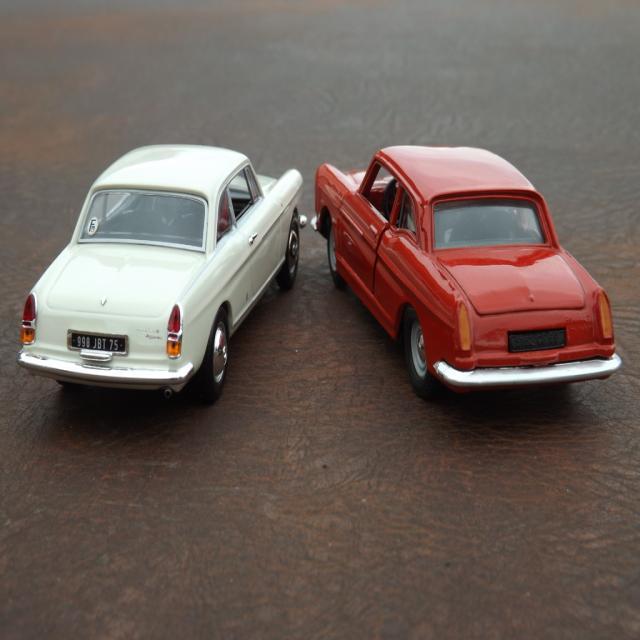car: (309, 145, 622, 403), (17, 145, 309, 399)
